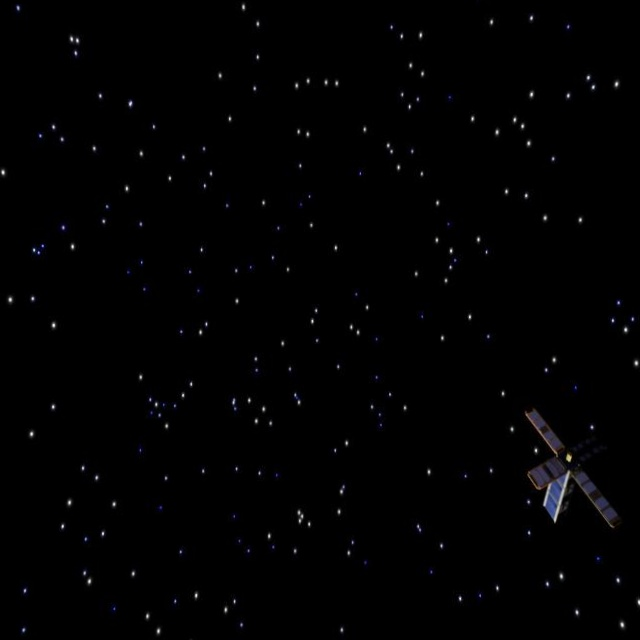satellite: (507, 408, 623, 531)
